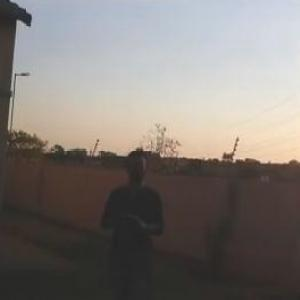follow: (88, 140, 169, 299)
